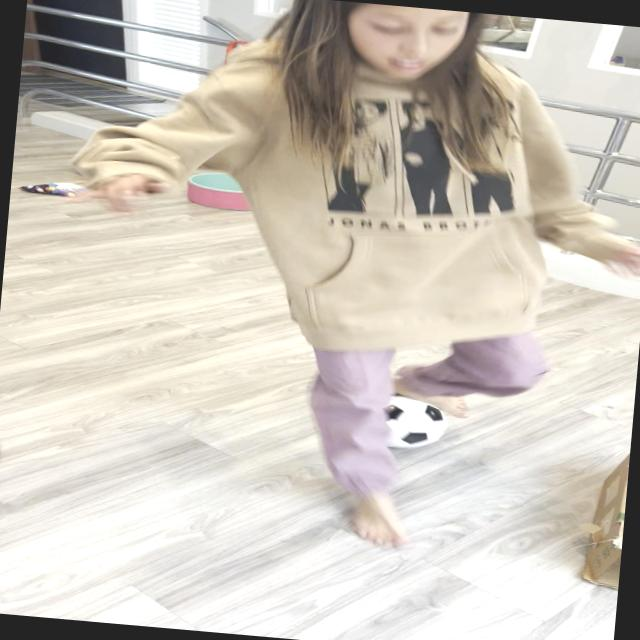Soccer Ball: (340, 387, 450, 452)
